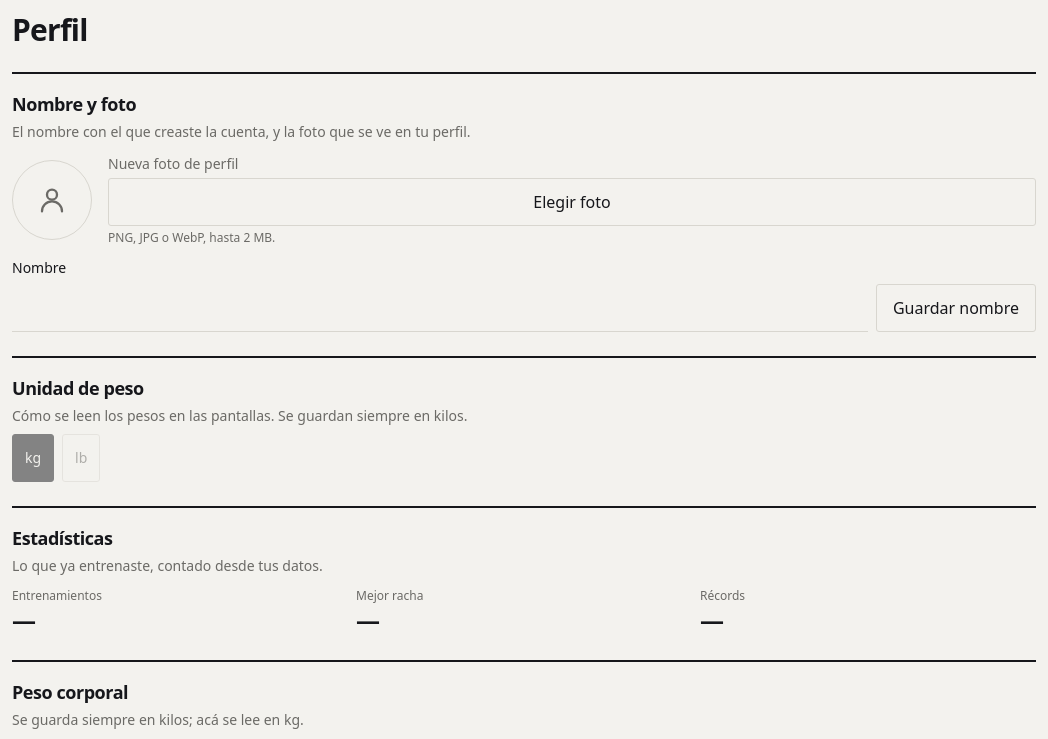
Scenario: the name › says so in Spanish when the name cannot be saved, instead of showing it as saved
Type "Ulises" into the field labelled "Nombre" at [440, 308], box [12,284,868,332]
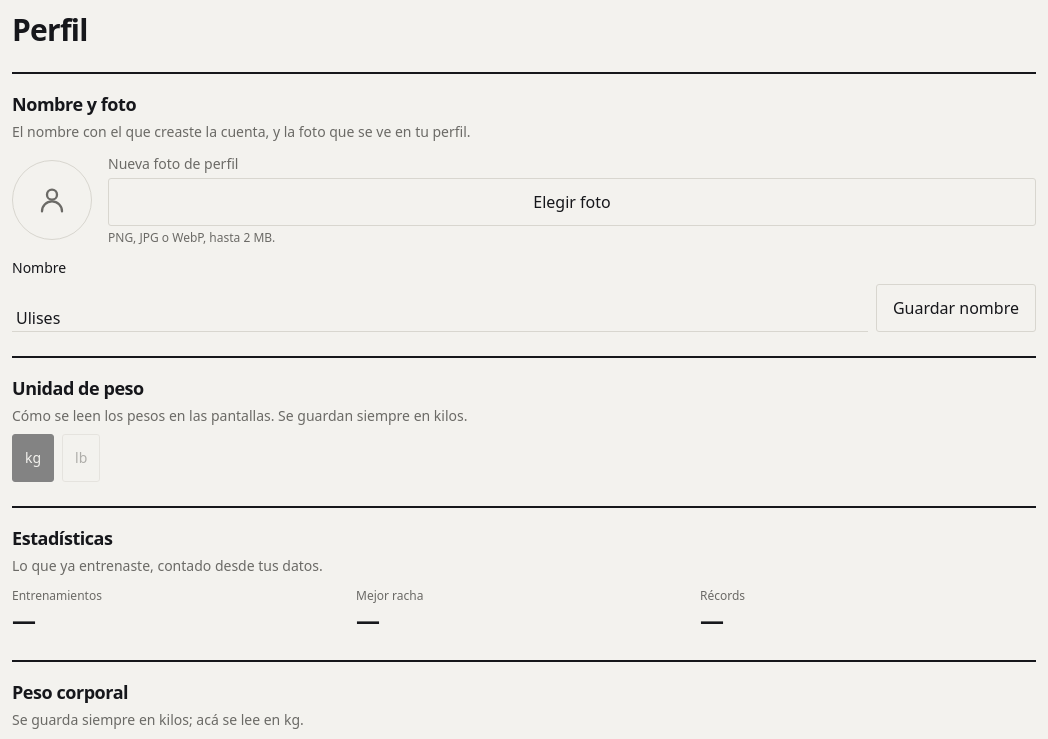
Click the button "Guardar nombre" at [956, 308], box [876,284,1036,332]
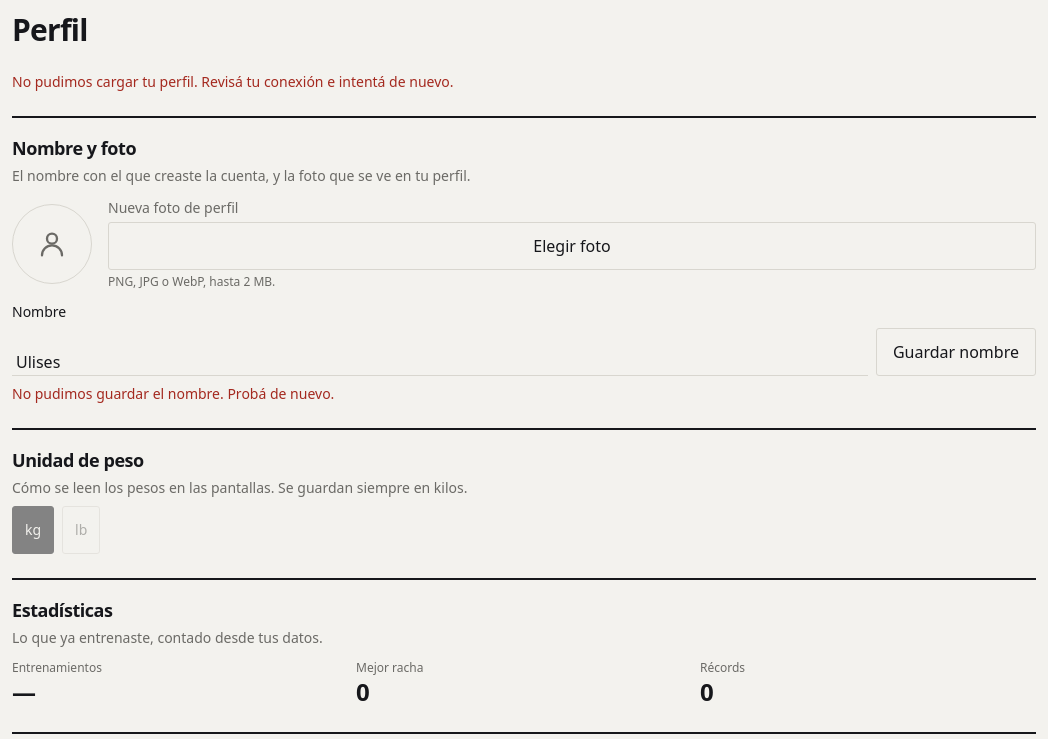
Result: the message "No pudimos guardar el nombre. Probá de nuevo." is shown at [12,384,334,403]
